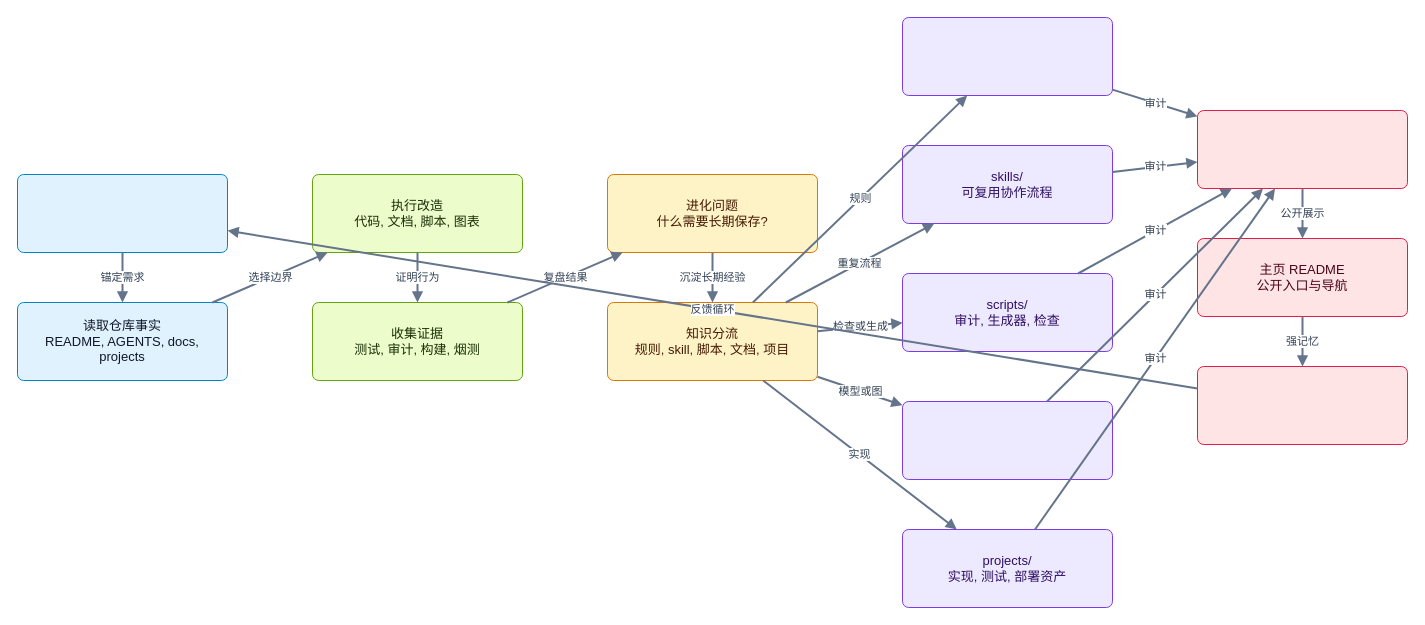
This 1425x625 diagram has some shape labels left out. The shapes that lost their labels are listed below. From the top down, each one's centre as x and y in pixels, then its label:
At (1007,56): "specs/ + AGENTS.md 目标, 边界, 运行规则".
At (1302,149): "公开/私有护栏 发布前脱敏".
At (122,213): "人与 AI 对话 目标, 约束, 决策".
At (1302,405): "下一次会话更强 Vibe coding 进化为资产".
At (1007,440): "docs/ + diagrams 运行手册, 环境模型, 流程图".
